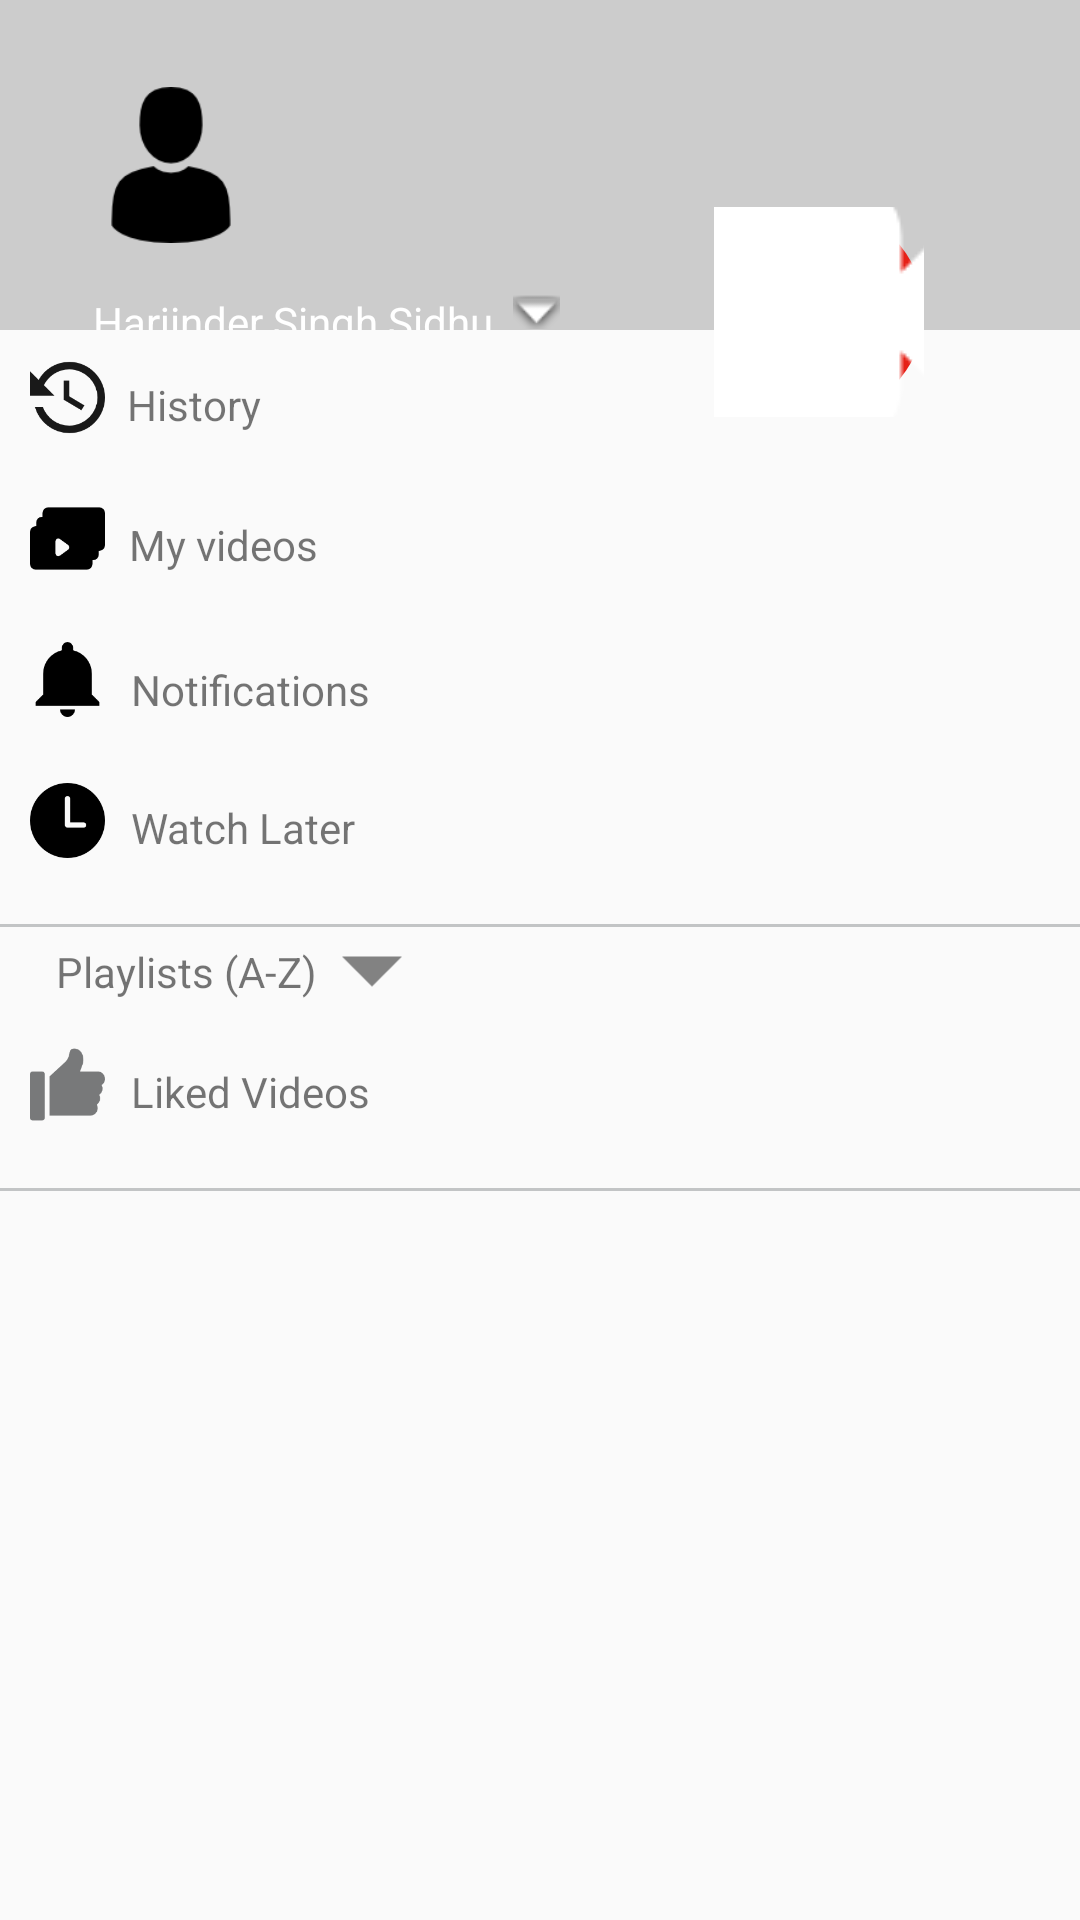

Named icons in this screenshot (1080*1920) and their bounding boxes, [x1, y1, x2, y2]:
clock: [30, 783, 105, 858]
manuser: [111, 87, 231, 243]
